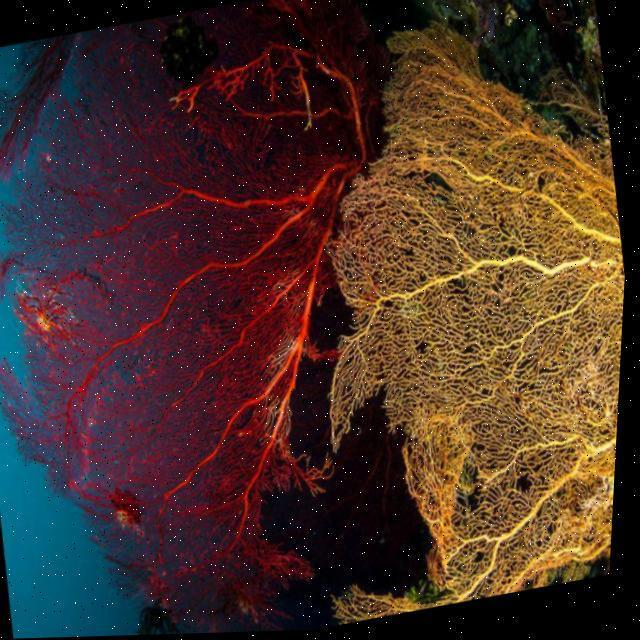Healthy Coral: (261, 0, 640, 615), (0, 31, 354, 640)
